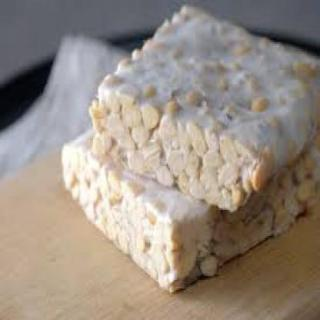Tempe: (90, 3, 320, 212)
